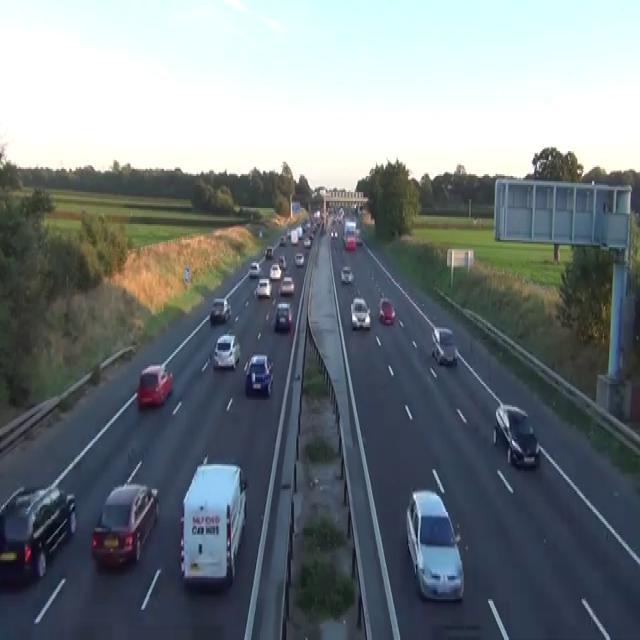Car: (0, 483, 76, 585), (405, 489, 464, 601), (91, 482, 159, 569), (492, 403, 540, 468), (137, 363, 173, 407), (243, 352, 273, 396), (212, 332, 240, 370), (431, 326, 457, 364), (350, 297, 370, 329), (209, 297, 231, 323), (274, 300, 292, 330), (378, 297, 395, 323), (256, 277, 272, 297), (278, 276, 294, 295), (340, 265, 354, 283), (248, 262, 261, 278), (269, 263, 281, 279), (344, 233, 356, 249), (294, 250, 304, 266), (278, 254, 286, 268), (265, 245, 273, 258), (290, 230, 298, 243), (473, 215, 482, 226), (355, 230, 362, 243), (330, 228, 338, 238), (303, 237, 311, 247), (296, 226, 302, 238), (279, 235, 286, 245), (351, 202, 357, 212), (308, 231, 314, 238), (286, 230, 291, 238), (259, 230, 262, 237)
Truck: (179, 457, 247, 587), (343, 219, 356, 249)
